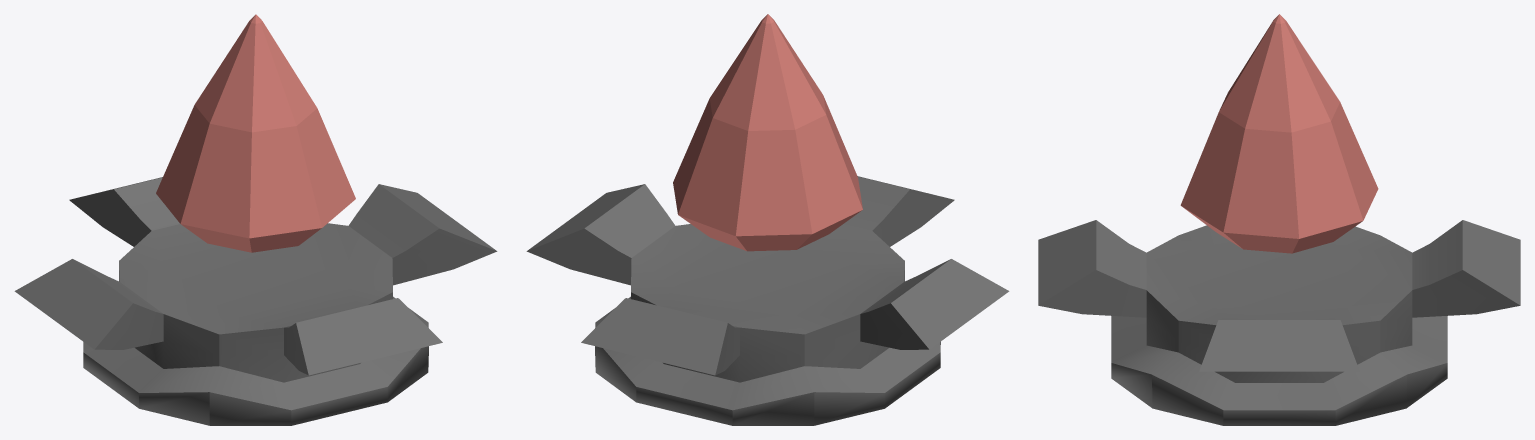
File: artefact.fbx
3 views of the same model, side by side, from view 1: azimuth 30°, elevation 25°; view 2: azimuth 150°, elevation 25°; view 3: azimuth 270°, elevation 25° (orthographic).
Parts seen in each view (by area): view 1: Base, Gemme; view 2: Base, Gemme; view 3: Base, Gemme.
Part boxes in pixels (box(x1,y1,x2,y2)): Base: box(14, 177, 497, 425); Gemme: box(156, 14, 355, 252); Base: box(526, 176, 1009, 425); Gemme: box(673, 14, 862, 251); Base: box(1038, 220, 1520, 425); Gemme: box(1180, 14, 1378, 253).
Bounding box in the file's own units: 4.64 × 3.73 × 4.78.
